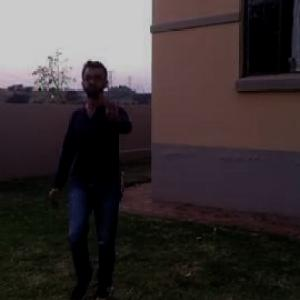takeoff-hand: (100, 92, 130, 126)
